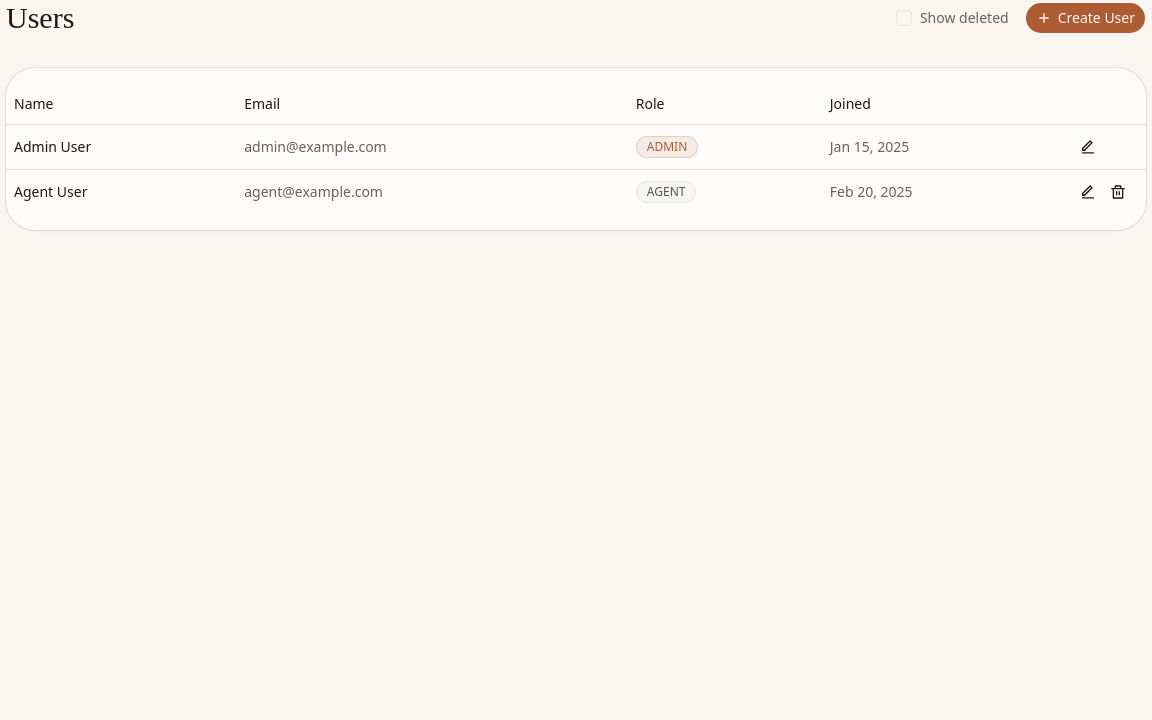
Test case: Users page › Edit User dialog › opens with user data pre-filled when edit button is clicked
The image size is (1152, 720).
Expected: the text "Admin User" is shown, [6, 124, 236, 169]
Click the button named "edit admin user": (1088, 146) [1074, 132, 1102, 160]
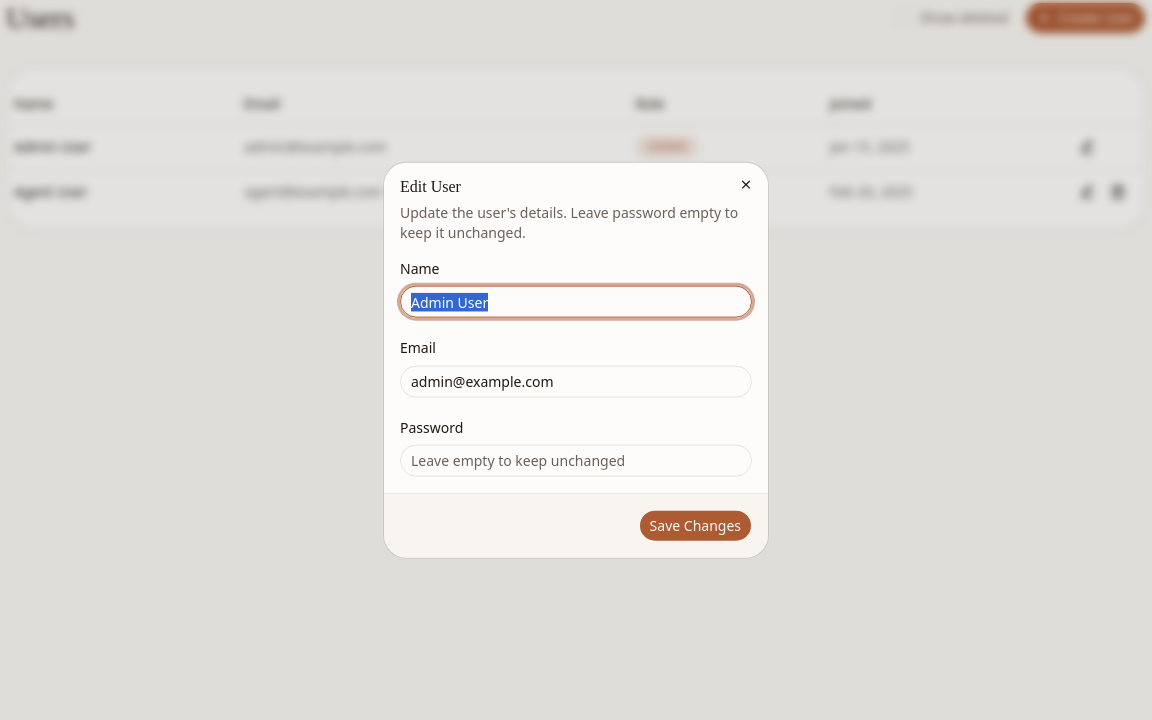
Expected: the dialog is shown, [384, 163, 768, 557]
Expected: the field labelled "Name" holds "Admin User", [400, 286, 752, 318]
Expected: the field labelled "Email" holds "admin@example.com", [400, 365, 752, 397]
